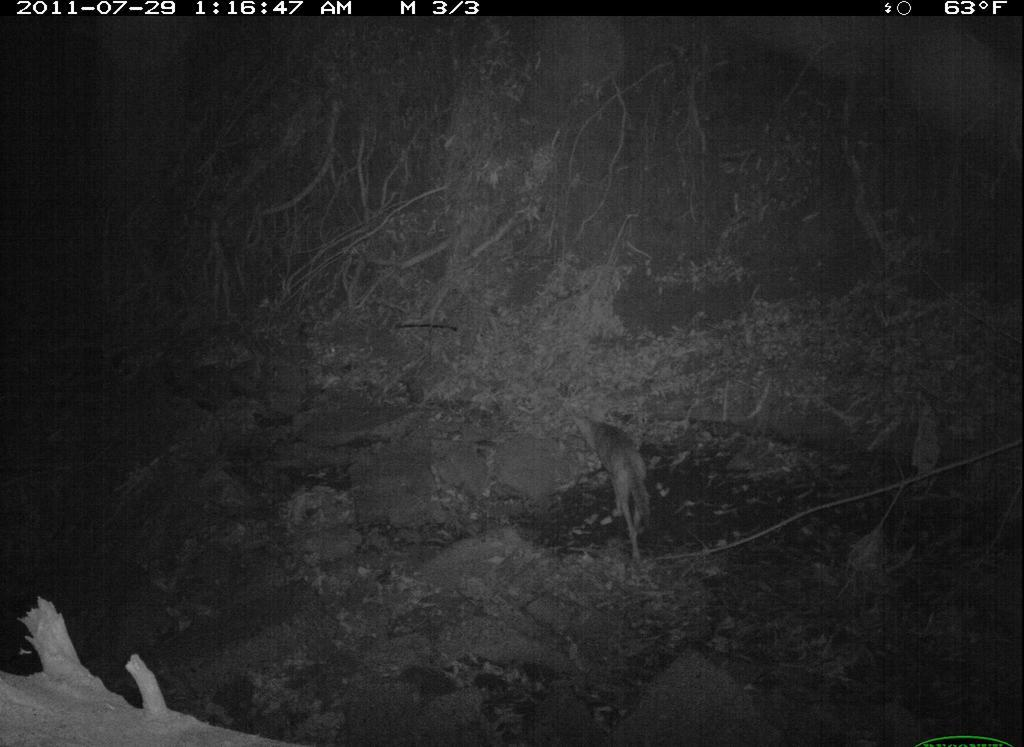coyote: (570, 408, 660, 565)
